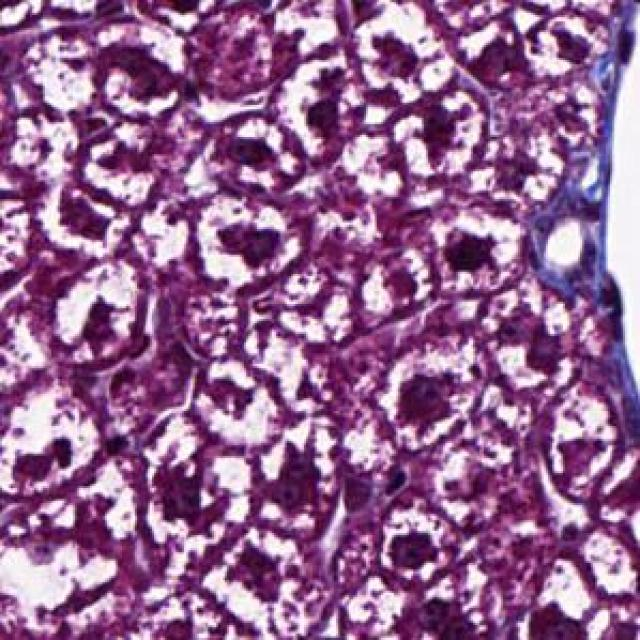inflammation: (394, 86, 494, 192), (192, 197, 302, 289)
